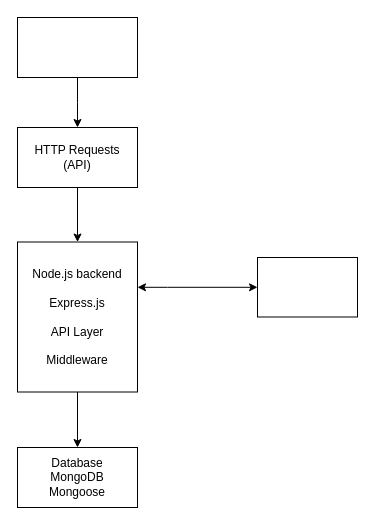
Image size: 375x525. Some labels were removed from this diagram. The shapes that lost their labels are listed below. From the top down, each one's centre as x and y in pixels, then its label:
[77,47]: Web browser HTML, CSS, JS
[307,286]: Server-side authentication
